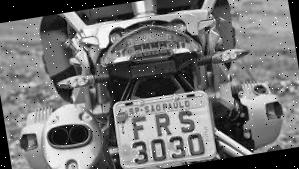placa_antiga: (115, 90, 214, 169)
